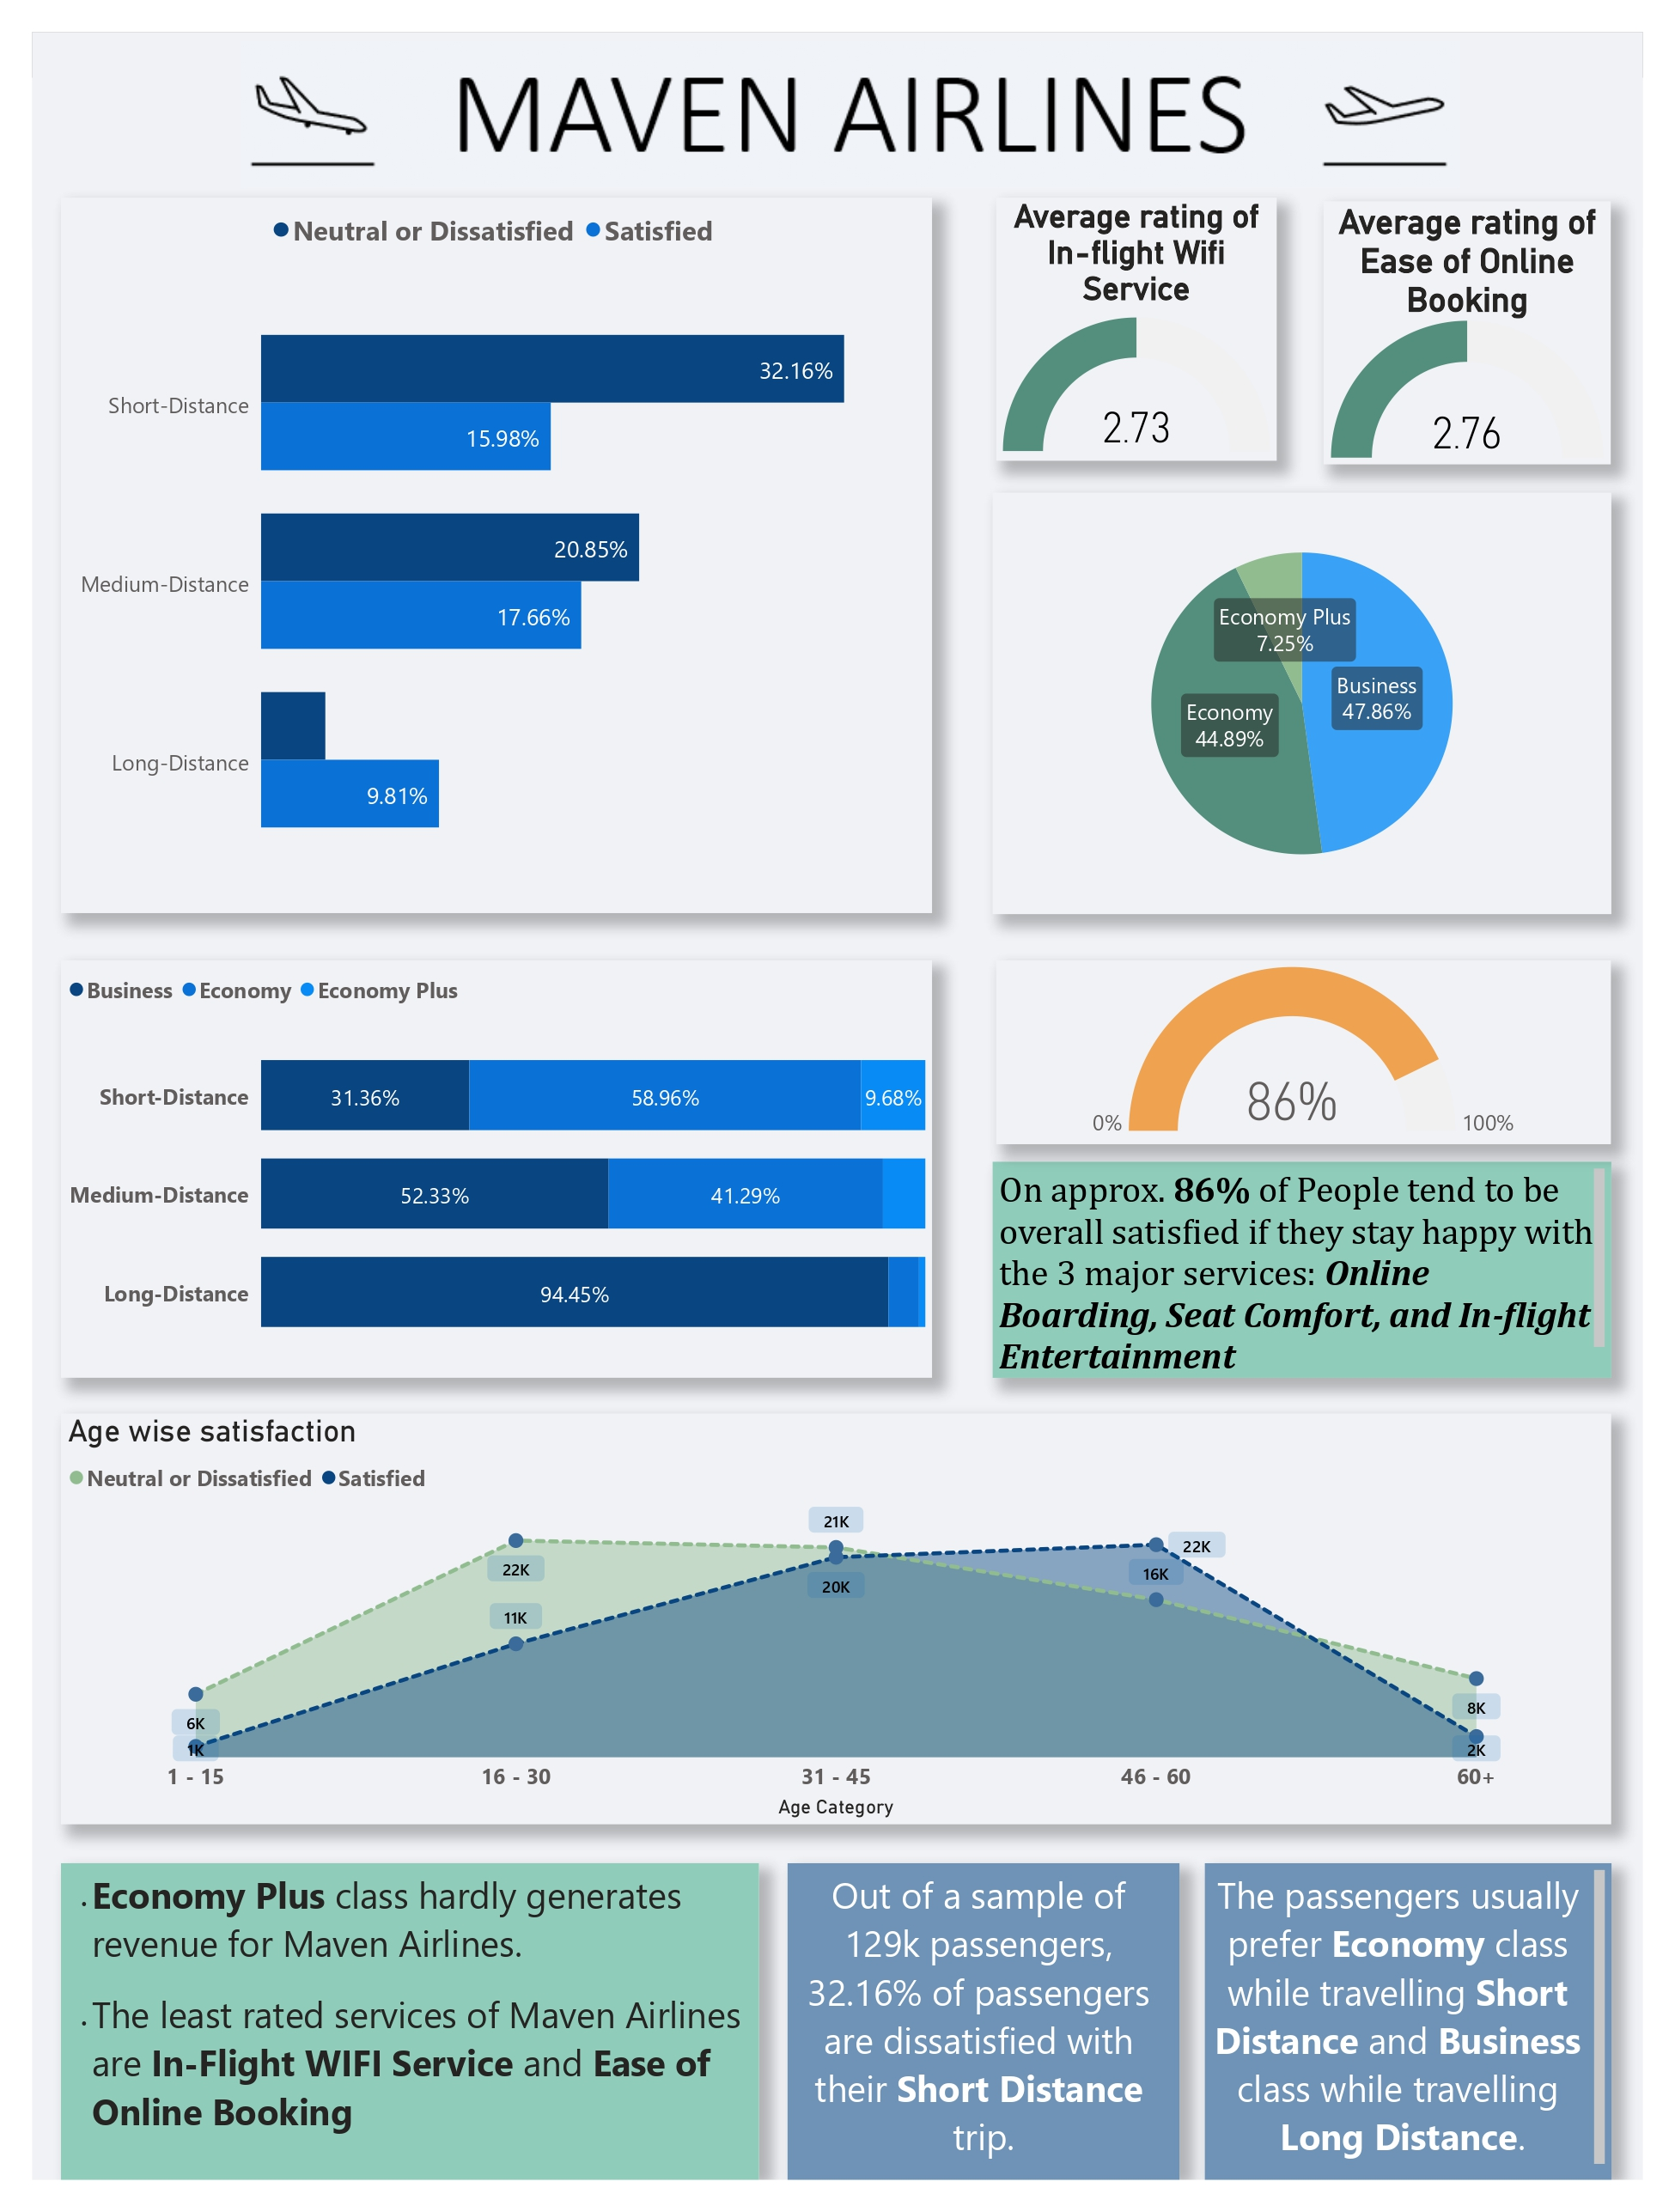

The page's visual inventory and layout, read from the dashboard file:
{"tool":"powerbi","page":{"name":"Maven Airlines","canvas":[1200,1600],"ordinal":0},"visuals":[{"type":"pieChart","fields":{"Y":["CountNonNull(airline_passenger_satisfaction.Class)"],"Category":["airline_passenger_satisfaction.Class"]},"box":[715.6,343,461,313.6],"z":0},{"type":"clusteredBarChart","fields":{"Category":["airline_passenger_satisfaction.Flight Distance Category"],"Series":["airline_passenger_satisfaction.Satisfaction"],"Y":["Divide(CountNonNull(airline_passenger_satisfaction.Satisfaction), ScopedEval(CountNonNull(airline_passenger_satisfaction"]},"box":[21.4,123.3,648.6,533.3],"z":1000},{"type":"gauge","title":"Average rating of Ease of Online Booking","fields":{"Y":["Avg(airline_passenger_satisfaction.Ease of Online Booking)"]},"box":[962.1,126,214.4,195.6],"z":2000},{"type":"gauge","title":"Average rating of In-flight Wifi Service","fields":{"Y":["Avg(airline_passenger_satisfaction.In-flight Wifi Service)"]},"box":[718.3,123.3,209,195.6],"z":3000},{"type":"hundredPercentStackedBarChart","fields":{"Category":["airline_passenger_satisfaction.Flight Distance Category"],"Series":["airline_passenger_satisfaction.Class"],"Y":["CountNonNull(airline_passenger_satisfaction.Class)"]},"box":[21.4,691.5,648.6,310.9],"z":4000},{"type":"textbox","box":[715.6,841.5,461,160.8],"z":5000},{"type":"gauge","fields":{"Y":["airline_passenger_satisfaction.Total Satisfaction From Major Services divided by Major Service Satisfaction"]},"box":[718.3,691.5,458.3,136.7],"z":6000},{"type":"areaChart","title":"Age wise satisfaction","fields":{"Category":["airline_passenger_satisfaction.Age Category"],"Y":["CountNonNull(airline_passenger_satisfaction.Satisfaction)"],"Series":["airline_passenger_satisfaction.Satisfaction"]},"box":[21.4,1029.1,1155.1,305.5],"z":7000},{"type":"textbox","box":[562.8,1364.2,292.1,235.8],"z":8000},{"type":"textbox","box":[873.7,1364.2,302.8,235.8],"z":9000},{"type":"textbox","box":[21.4,1364.2,519.9,235.8],"z":10000},{"type":"image","box":[150.1,0,919.3,123.3],"z":10001}]}

Visuals, with their boxes on the page's 1200x1600 design canvas (x1, y1, x2, y2). These are canvas units, not pixel positions in the 1675x2212 screenshot, which may show the page scaled, cropped or inside an application window:
pieChart - CountNonNull(airline_passenger_satisfaction.Class) x airline_passenger_satisfaction.Class: x1=716, y1=343, x2=1177, y2=657
clusteredBarChart - airline_passenger_satisfaction.Flight Distance Category x airline_passenger_satisfaction.Satisfaction: x1=21, y1=123, x2=670, y2=657
"Average rating of Ease of Online Booking" gauge: x1=962, y1=126, x2=1176, y2=322
"Average rating of In-flight Wifi Service" gauge: x1=718, y1=123, x2=927, y2=319
hundredPercentStackedBarChart - airline_passenger_satisfaction.Flight Distance Category x airline_passenger_satisfaction.Class: x1=21, y1=692, x2=670, y2=1002
textbox: x1=716, y1=842, x2=1177, y2=1002
gauge - airline_passenger_satisfaction.Total Satisfaction From Major Services divided by Major Service Satisfaction: x1=718, y1=692, x2=1177, y2=828
"Age wise satisfaction" areaChart: x1=21, y1=1029, x2=1176, y2=1335
textbox: x1=563, y1=1364, x2=855, y2=1600
textbox: x1=874, y1=1364, x2=1176, y2=1600
textbox: x1=21, y1=1364, x2=541, y2=1600
image: x1=150, y1=0, x2=1069, y2=123
